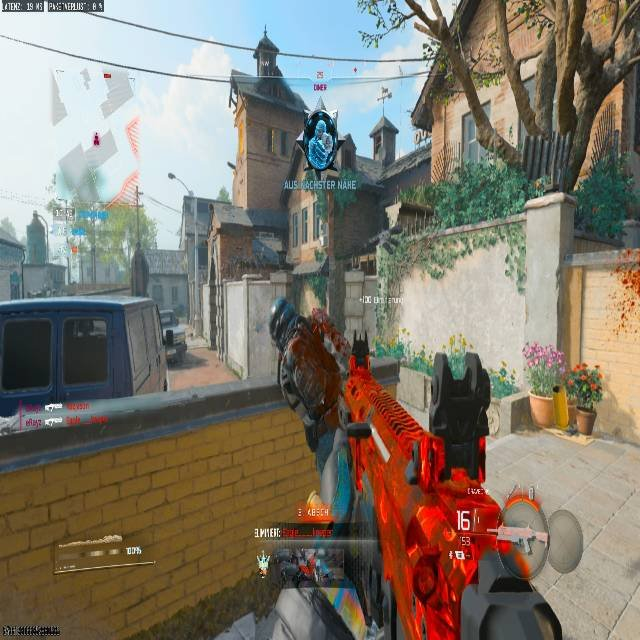player: (264, 295, 394, 487), (268, 297, 300, 372), (159, 319, 185, 364), (297, 549, 314, 588)
